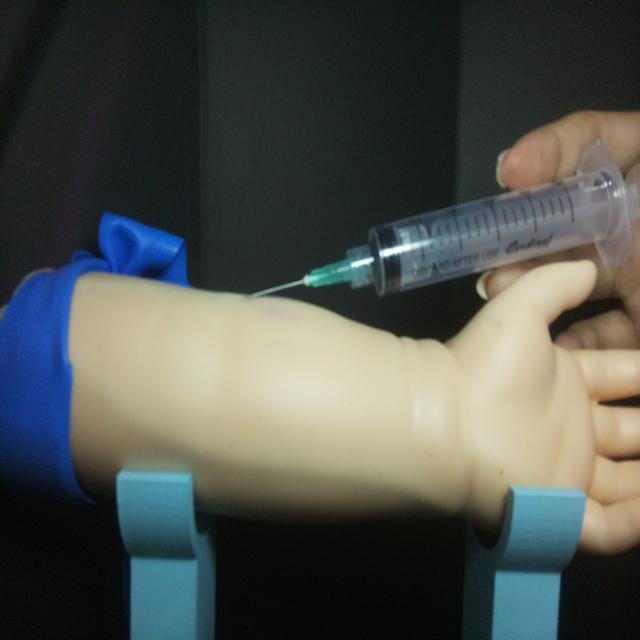20deg: (242, 136, 635, 306)
